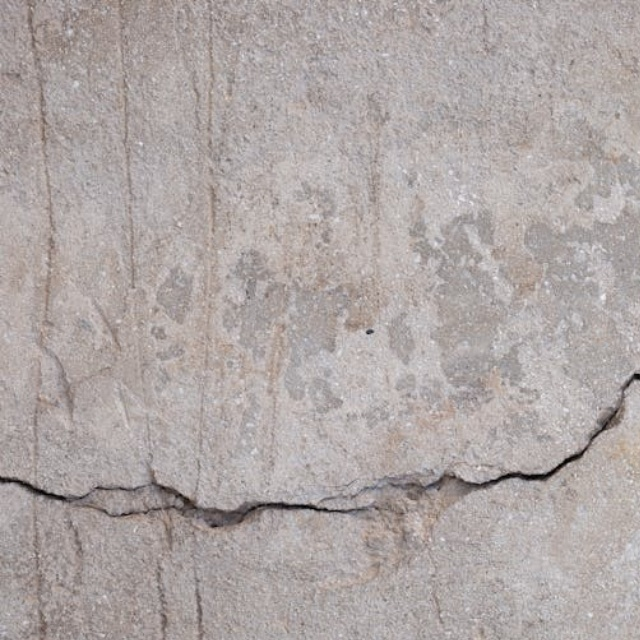细微裂纹: (0, 462, 556, 550)
网状裂隙: (457, 0, 624, 462), (420, 0, 571, 461), (511, 0, 640, 462), (561, 0, 640, 461)
